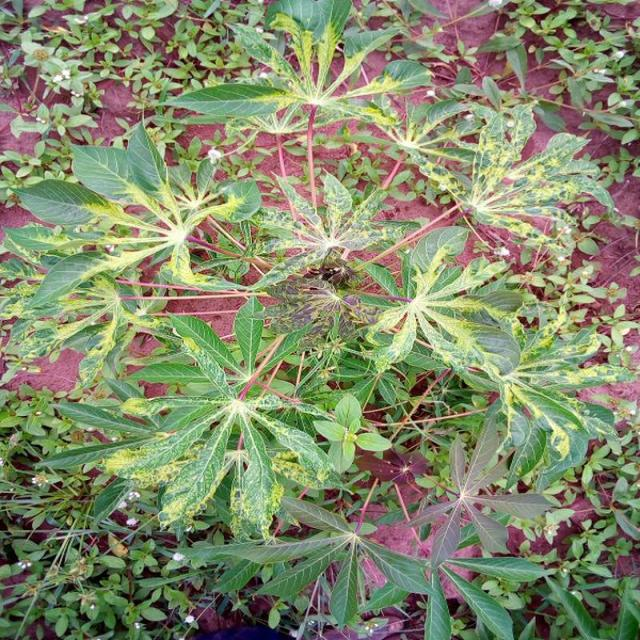cassava leaf: (2, 1, 634, 636)
